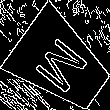M_SE: (29, 30, 93, 97)
